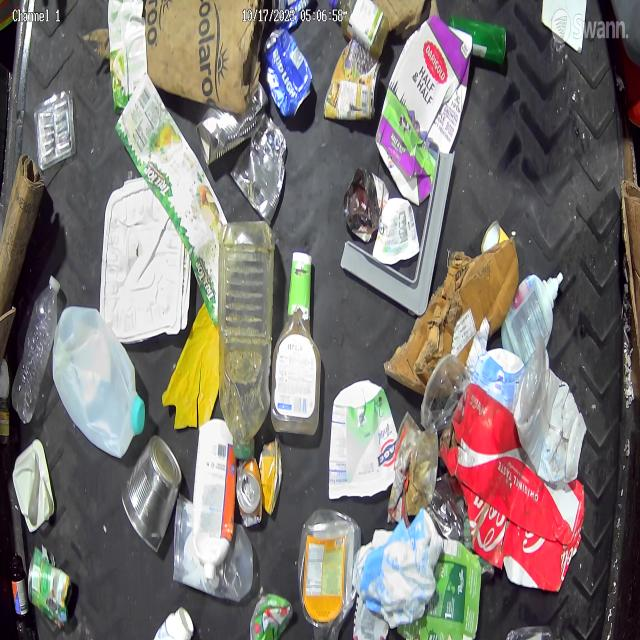can: (121, 436, 181, 553), (230, 114, 287, 228), (196, 79, 269, 168), (263, 28, 313, 117), (327, 39, 380, 120), (344, 0, 387, 61), (236, 458, 263, 529)
milk_jug: (51, 306, 146, 454)
non_white_jug: (375, 13, 473, 206)
plastic_bottle: (218, 221, 276, 459), (13, 275, 65, 428)
